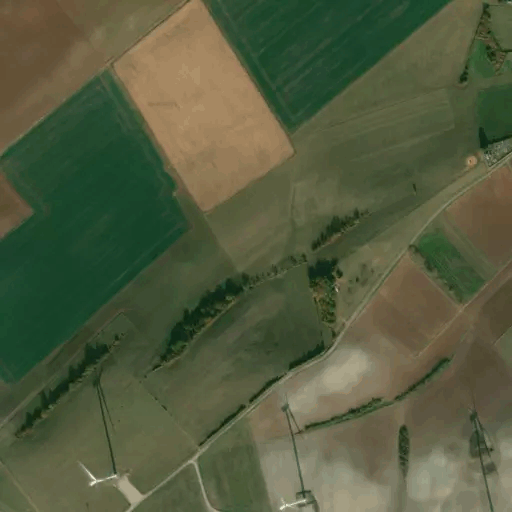wt: (73, 362, 131, 492), (269, 389, 324, 512), (459, 386, 506, 512)
